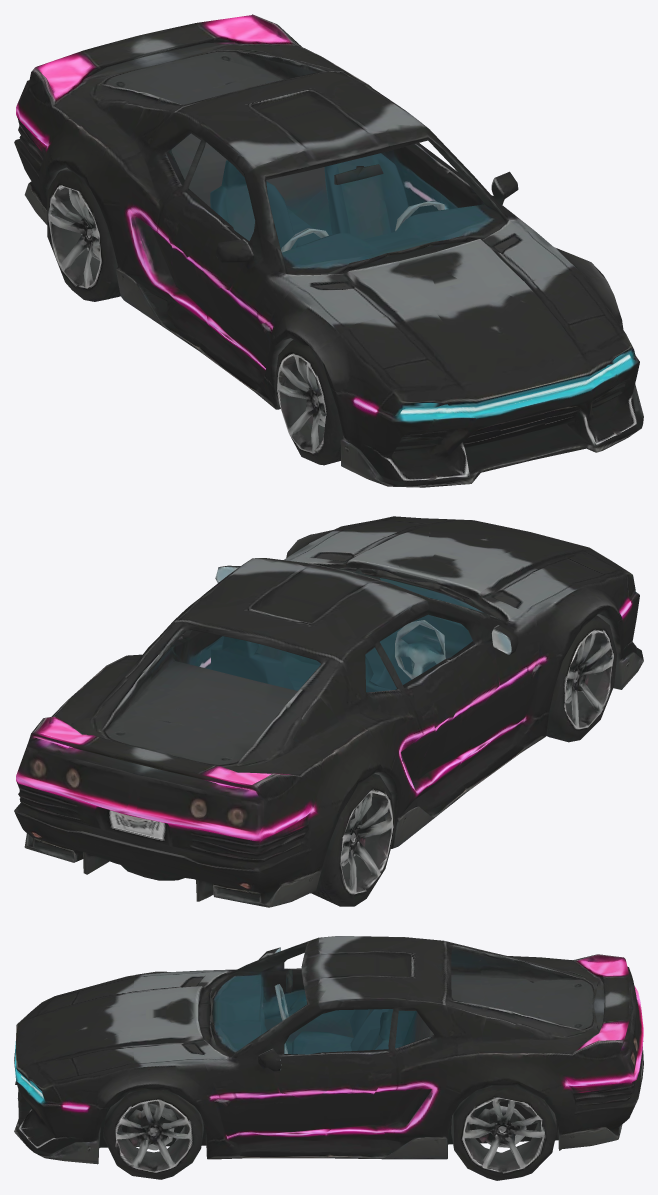
Rendered from prop-car.glb.
3 views of the same model, one above another, from view 1: azimuth 30°, elevation 25°; view 2: azimuth 150°, elevation 25°; view 3: azimuth 270°, elevation 25° (orthographic). The views are drawn at different scales.
Visible parts, largest first — view 1: body; view 2: body; view 3: body.
Boxes of the visible parts, x1=… form: body: x1=14, y1=14, x2=643, y2=487; body: x1=14, y1=516, x2=643, y2=907; body: x1=14, y1=936, x2=643, y2=1180.
Size of the model in its own units: 0.4236 by 0.2887 by 0.9999.
1 material, 1 textured.
